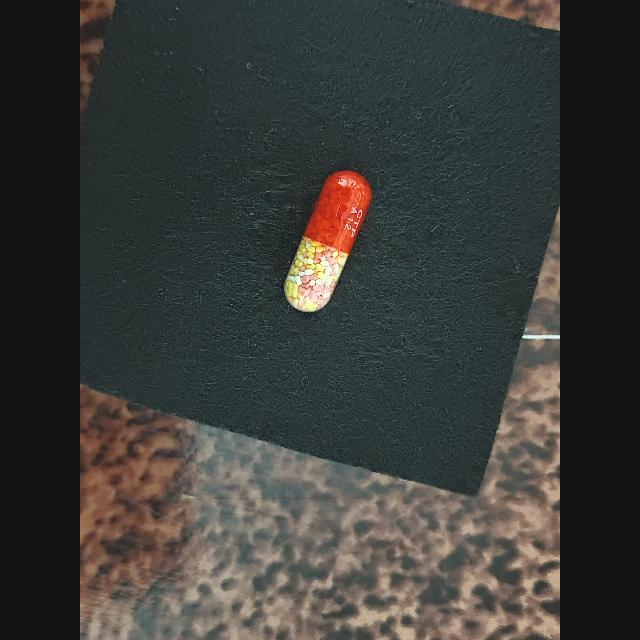Intact Capsule: (284, 171, 372, 312)
